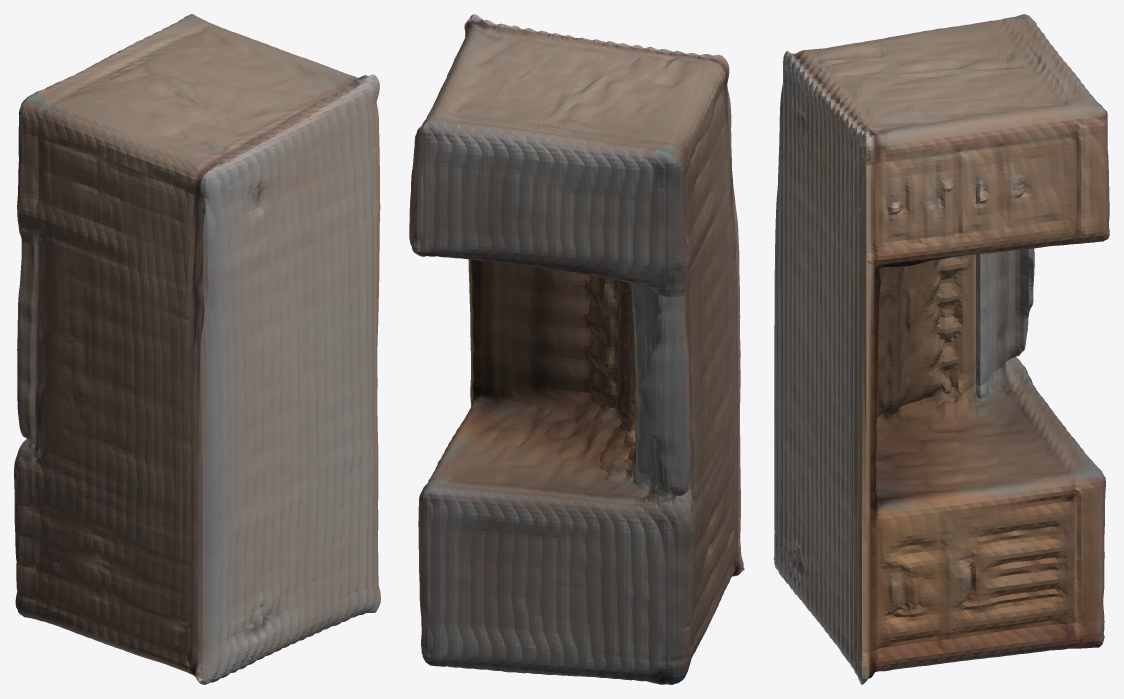
3 renders of one model, left to right at view 1: azimuth 30°, elevation 25°; view 2: azimuth 150°, elevation 25°; view 3: azimuth 270°, elevation 25°, orthographic. The views are drawn at different scales.
Parts seen in each view (by area): view 1: world; view 2: world; view 3: world.
Boxes of the visible parts, x1,y1,x2,y2 form: world: [14, 14, 380, 684]; world: [409, 14, 744, 684]; world: [773, 14, 1109, 684].
Bounding box in the file's own units: 0.5413 × 0.9468 × 0.523.
